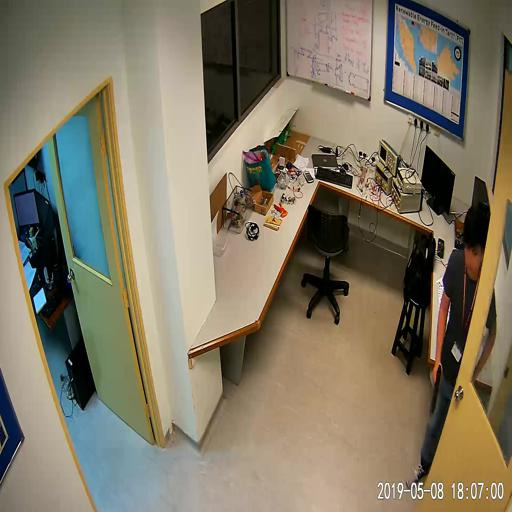pistol: (430, 365, 442, 413)
